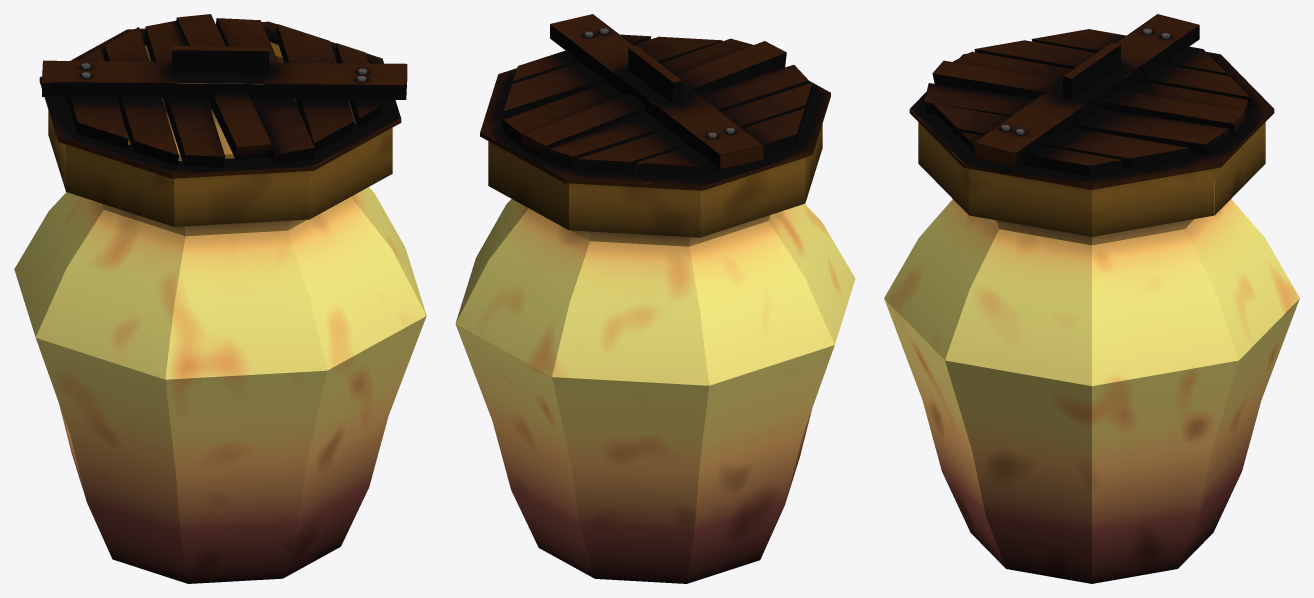
Rendered from vase.fbx.
The picture shows the model from 3 angles, left to right: view 1: azimuth 30°, elevation 25°; view 2: azimuth 150°, elevation 25°; view 3: azimuth 270°, elevation 25°; orthographic projection. The views are drawn at different scales.
Visible parts, largest first — view 1: Cube.006; view 2: Cube.006; view 3: Cube.006.
Part boxes in pixels (<box>): Cube.006: <box>14,14,426,583</box>; Cube.006: <box>455,14,855,583</box>; Cube.006: <box>884,14,1299,583</box>.
Bounding box in the file's own units: 99.38 × 124 × 99.38.
1 material, 1 textured.
